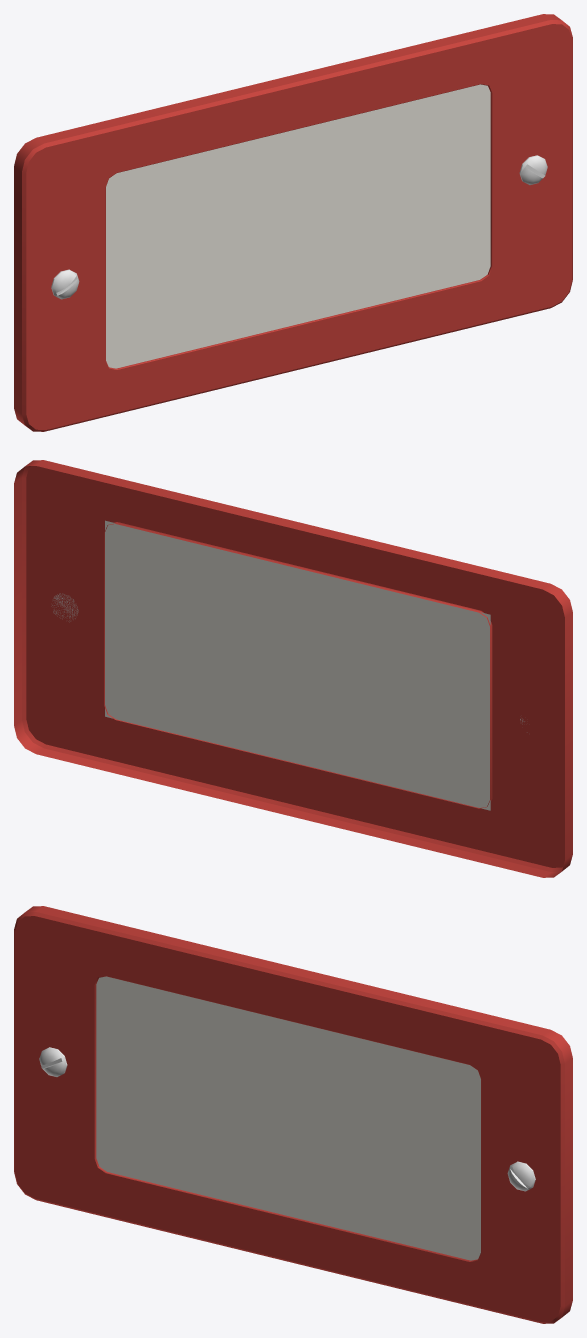
The model's file is Kit_DoorNumberPlate.fbx.
The picture shows the model from 3 angles, top to bottom: view 1: azimuth 30°, elevation 25°; view 2: azimuth 150°, elevation 25°; view 3: azimuth 330°, elevation 25°; orthographic projection.
Parts seen in each view (by area): view 1: Kit_DoorNumberPlate_LOD0; view 2: Kit_DoorNumberPlate_LOD0; view 3: Kit_DoorNumberPlate_LOD0.
Part boxes in pixels (x1=…): Kit_DoorNumberPlate_LOD0: x1=14, y1=14, x2=572, y2=431; Kit_DoorNumberPlate_LOD0: x1=14, y1=460, x2=572, y2=877; Kit_DoorNumberPlate_LOD0: x1=14, y1=906, x2=572, y2=1323.
Size of what is drawn, in the model's own units: 0.1 by 0.05 by 0.00424.
